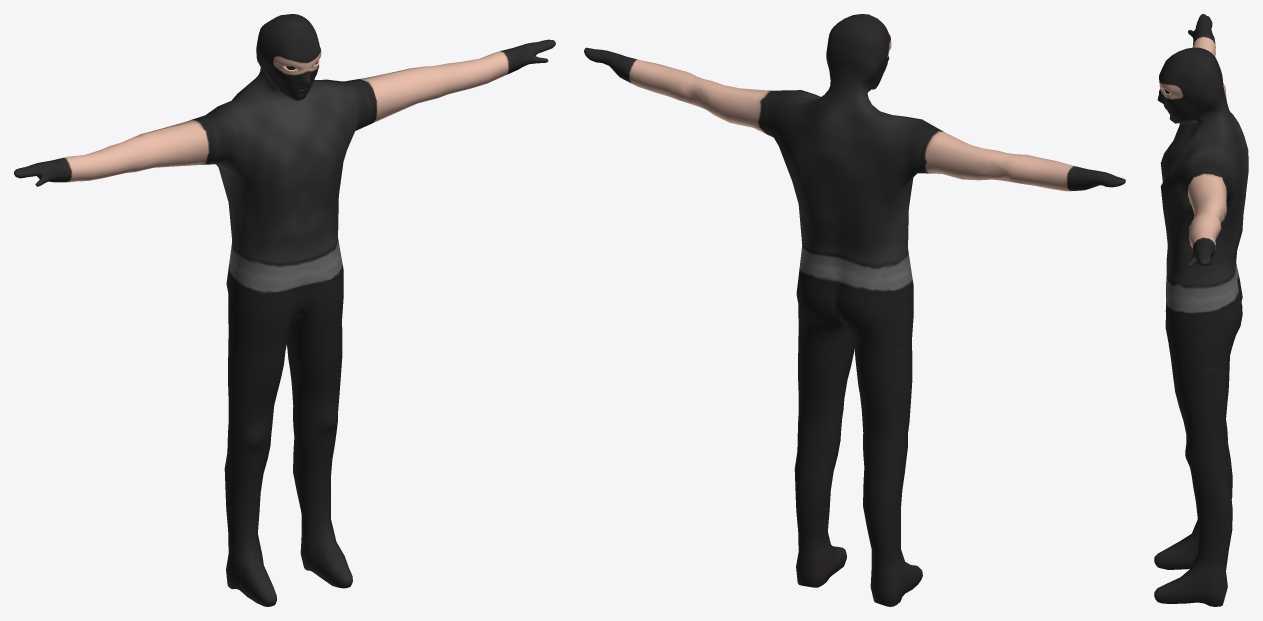
File: dorobo.fbx
3 views of the same model, side by side, from view 1: azimuth 30°, elevation 25°; view 2: azimuth 150°, elevation 25°; view 3: azimuth 270°, elevation 25° (orthographic). The views are drawn at different scales.
Parts seen in each view (by area): view 1: polySurface9; view 2: polySurface9; view 3: polySurface9.
Part boxes in pixels (box(x1,y1,x2,y2)): polySurface9: box(14, 14, 555, 606); polySurface9: box(584, 14, 1125, 606); polySurface9: box(1154, 14, 1248, 606).
Bounding box in the file's own units: 26.34 × 26.42 × 4.24.
